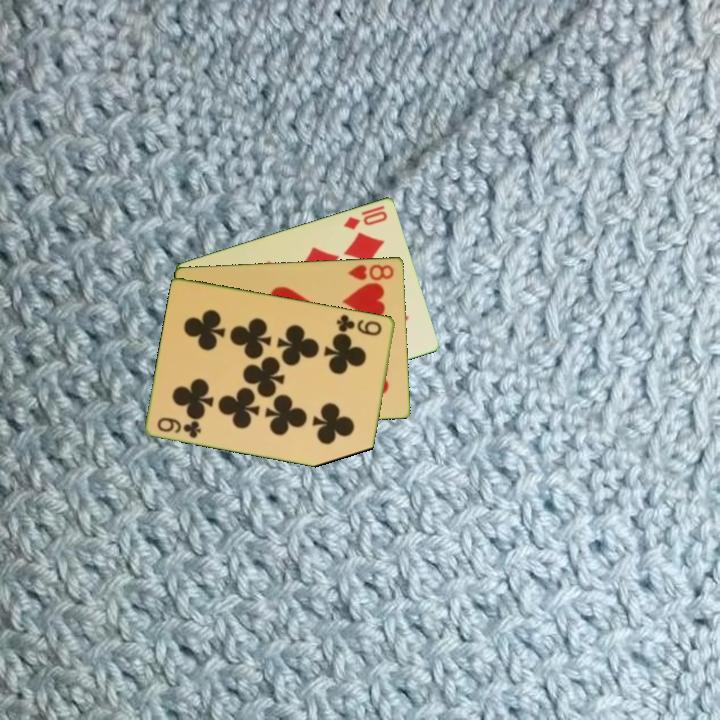10d: (340, 207, 390, 232)
8h: (345, 260, 397, 283)
9c: (333, 310, 385, 338), (154, 413, 204, 441)
